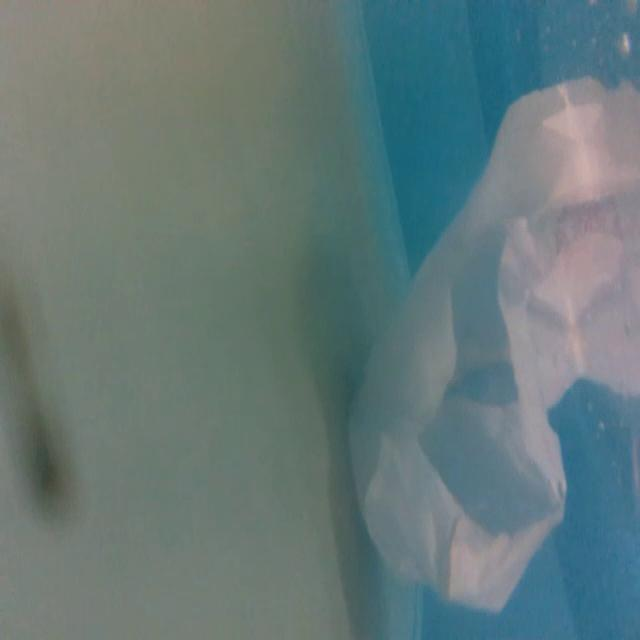plastic bags: (340, 78, 640, 614)
